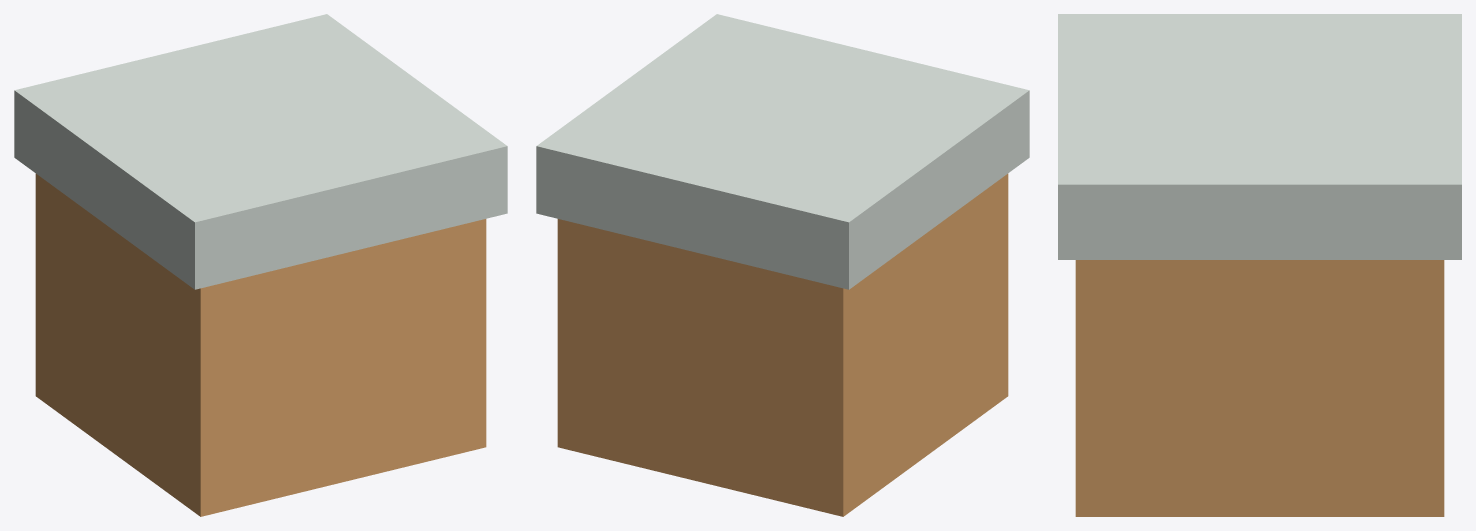
The model's file is parcel.fbx.
3 views of the same model, side by side, from view 1: azimuth 30°, elevation 25°; view 2: azimuth 150°, elevation 25°; view 3: azimuth 270°, elevation 25° (orthographic). The views are drawn at different scales.
Parts seen in each view (by area): view 1: Cube; view 2: Cube; view 3: Cube.
Part boxes in pixels (bbox=[...]): Cube: bbox=[14, 14, 507, 516]; Cube: bbox=[536, 14, 1029, 516]; Cube: bbox=[1058, 14, 1461, 516].
Bounding box in the file's own units: 92.06 × 85.41 × 92.06.
